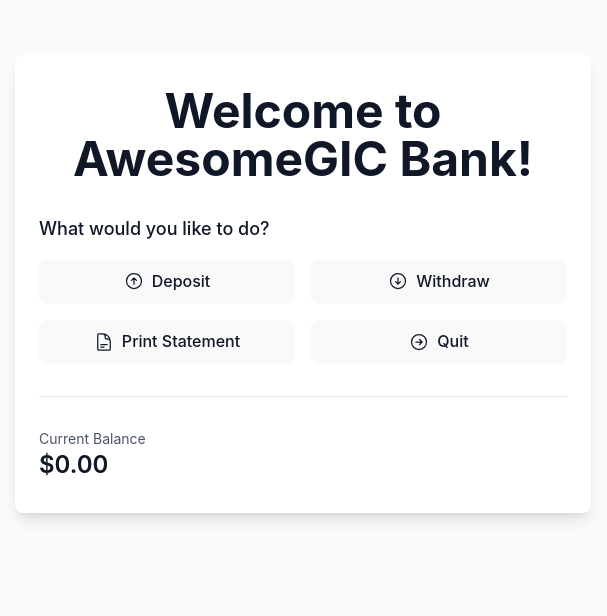
it: Banking App › shows empty state when viewing statement with no transactions
Click the menu item "Print Statement": (167, 342) [39,320,295,364]
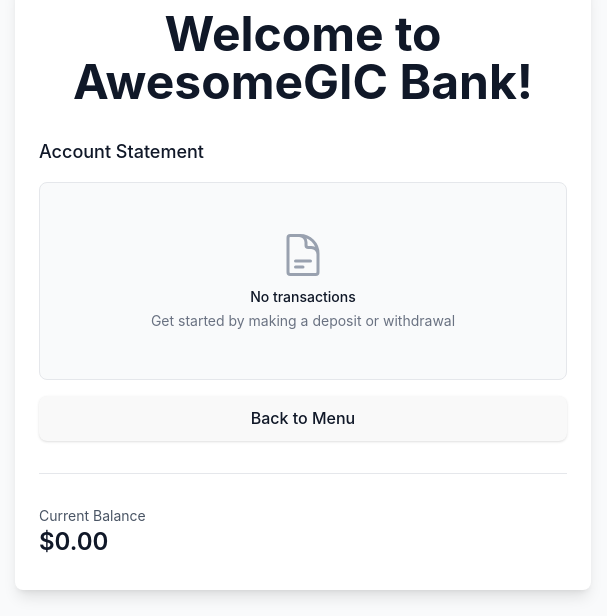
Expected: the heading "No transactions" is shown, [250,288,356,306]
Expected: the text "Get started by making a deposit or withdrawal" is shown, [151,312,455,330]
